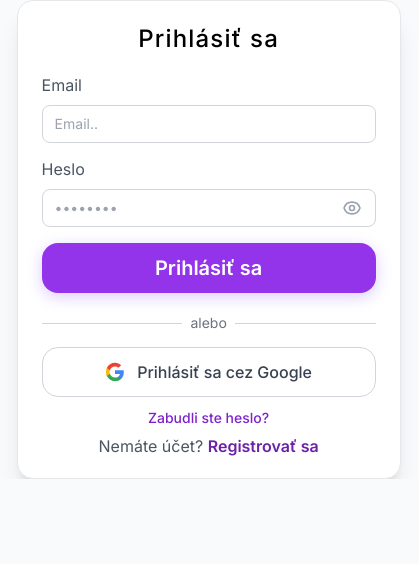
Test case: LoginForm › handles login error
Type "test@example.com" into the field labelled "Email" at (209, 124), box [42,105,376,143]
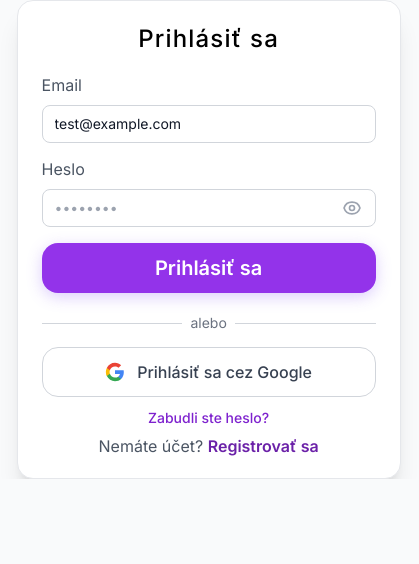
Type "password123" into the password field labelled "Heslo" at (209, 208), box [42,189,376,227]
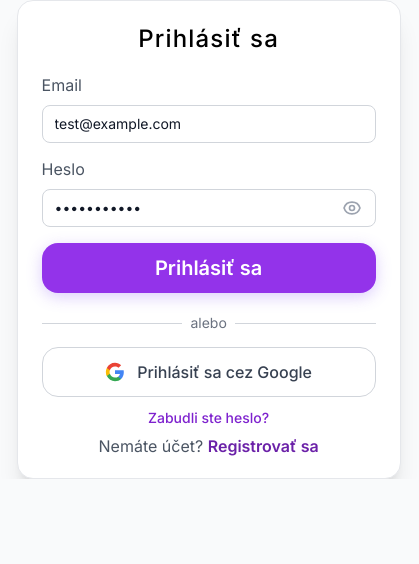
Click the button "Prihlásiť sa" at (209, 268), box [42,243,376,293]
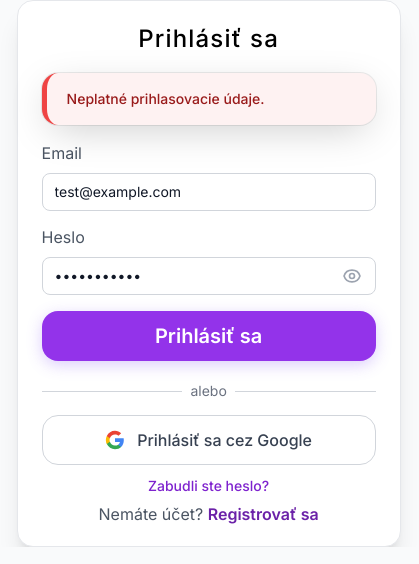
Check: the text "Neplatné prihlasovacie údaje." is shown, box [67,90,264,107]
